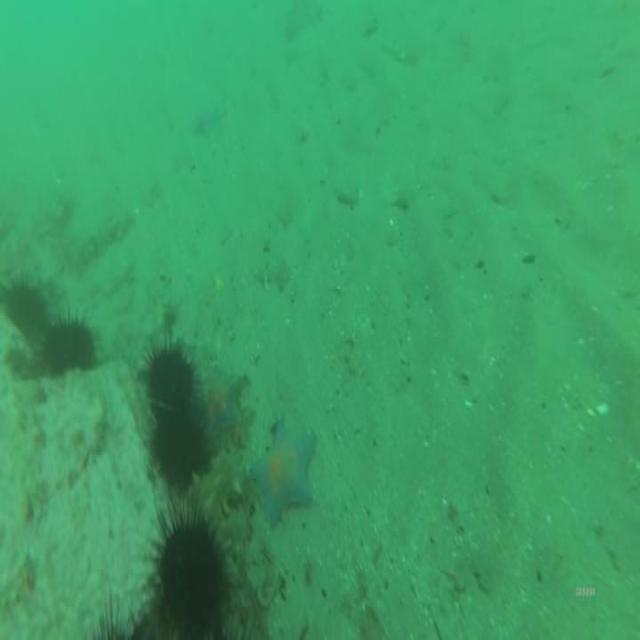echinus: (161, 520, 225, 623), (156, 411, 202, 485), (142, 348, 195, 409), (47, 321, 93, 368), (6, 284, 47, 334)
starfish: (250, 420, 312, 525), (199, 370, 246, 430)
